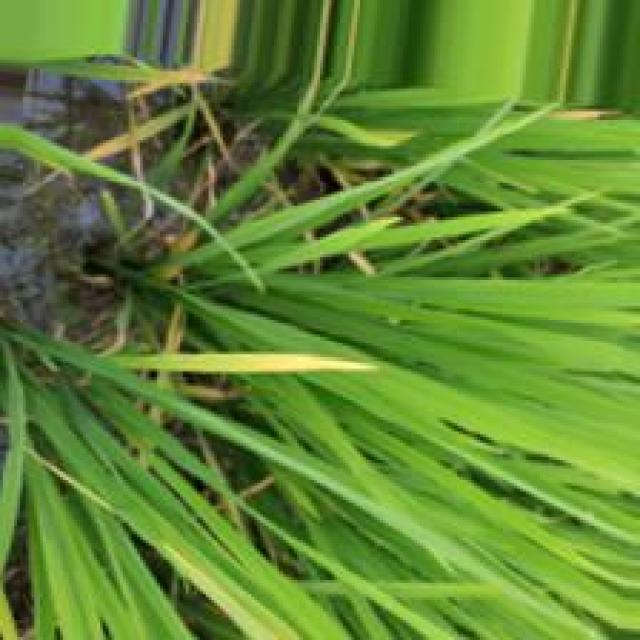HealthyLeaf: (290, 303, 572, 416)
